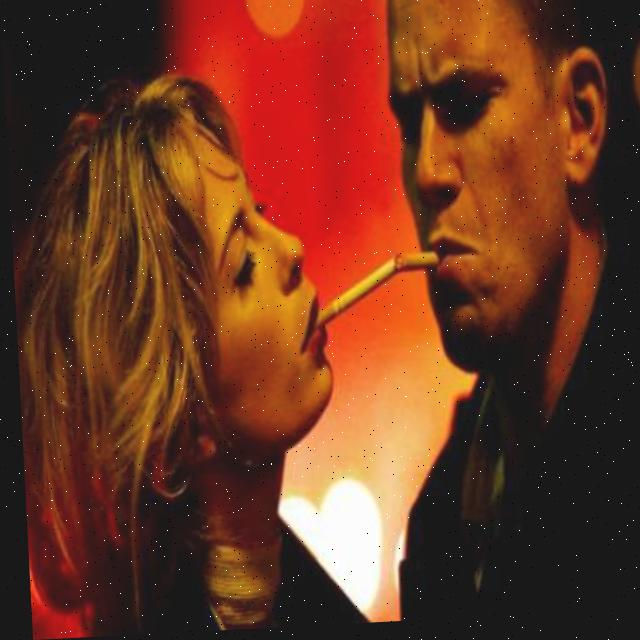cigarette: (309, 257, 396, 331), (391, 255, 436, 276)
